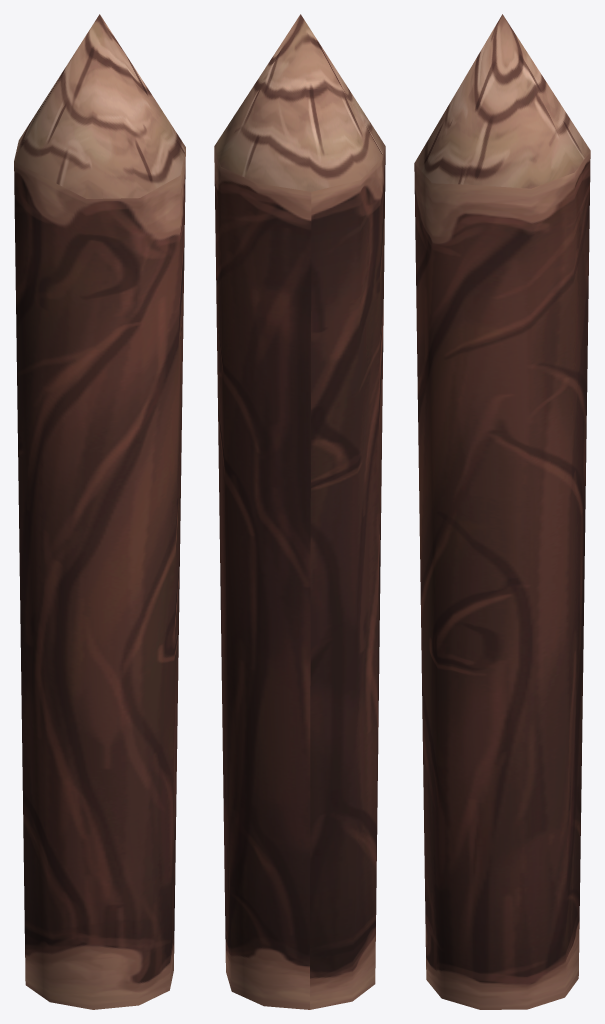
File: wooden_pillar_02.fbx
3 renders of one model, left to right at view 1: azimuth 30°, elevation 25°; view 2: azimuth 150°, elevation 25°; view 3: azimuth 270°, elevation 25°, orthographic.
Parts seen in each view (by area): view 1: wooden_pillar_04; view 2: wooden_pillar_04; view 3: wooden_pillar_04.
Boxes of the visible parts, bbox=[...] form: wooden_pillar_04: bbox=[14, 14, 185, 1009]; wooden_pillar_04: bbox=[214, 14, 385, 1009]; wooden_pillar_04: bbox=[414, 14, 590, 1009].
Bounding box in the file's own units: 1.46 × 9.29 × 1.54.
